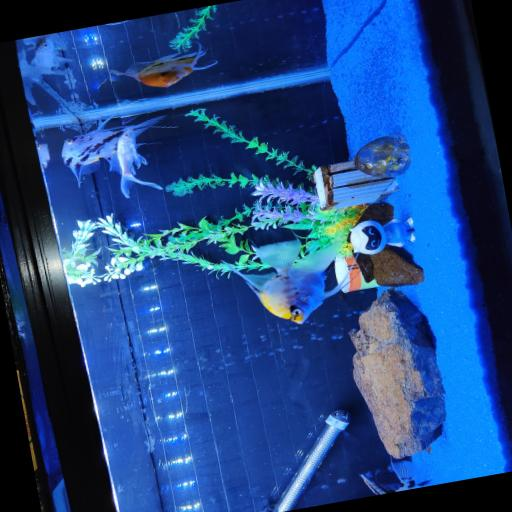Fish: (236, 240, 350, 324), (62, 116, 165, 185), (111, 44, 217, 87), (19, 35, 71, 105), (110, 128, 162, 198), (360, 458, 446, 494), (36, 142, 50, 168)
